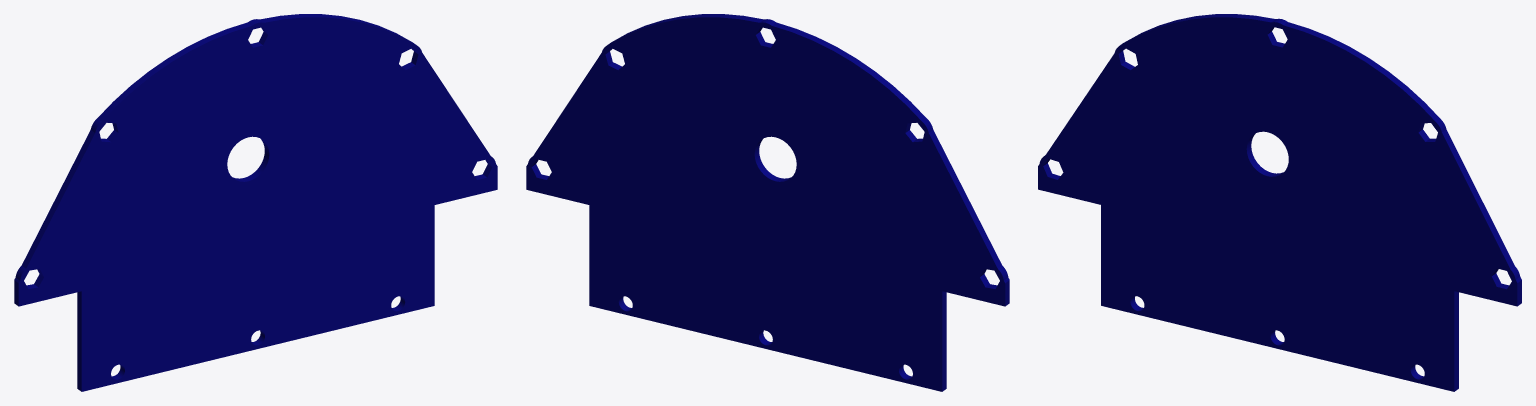
The model's file is GaroliteTopPanel_.fbx.
3 views of the same model, side by side, from view 1: azimuth 30°, elevation 25°; view 2: azimuth 150°, elevation 25°; view 3: azimuth 330°, elevation 25° (orthographic).
Visible parts, largest first — view 1: Body1; view 2: Body1; view 3: Body1.
Part boxes in pixels (x1=…): Body1: x1=14, y1=14, x2=497, y2=391; Body1: x1=526, y1=14, x2=1009, y2=391; Body1: x1=1038, y1=14, x2=1521, y2=391.
Bounding box in the file's own units: 6.84 × 4.45 × 0.1125.
